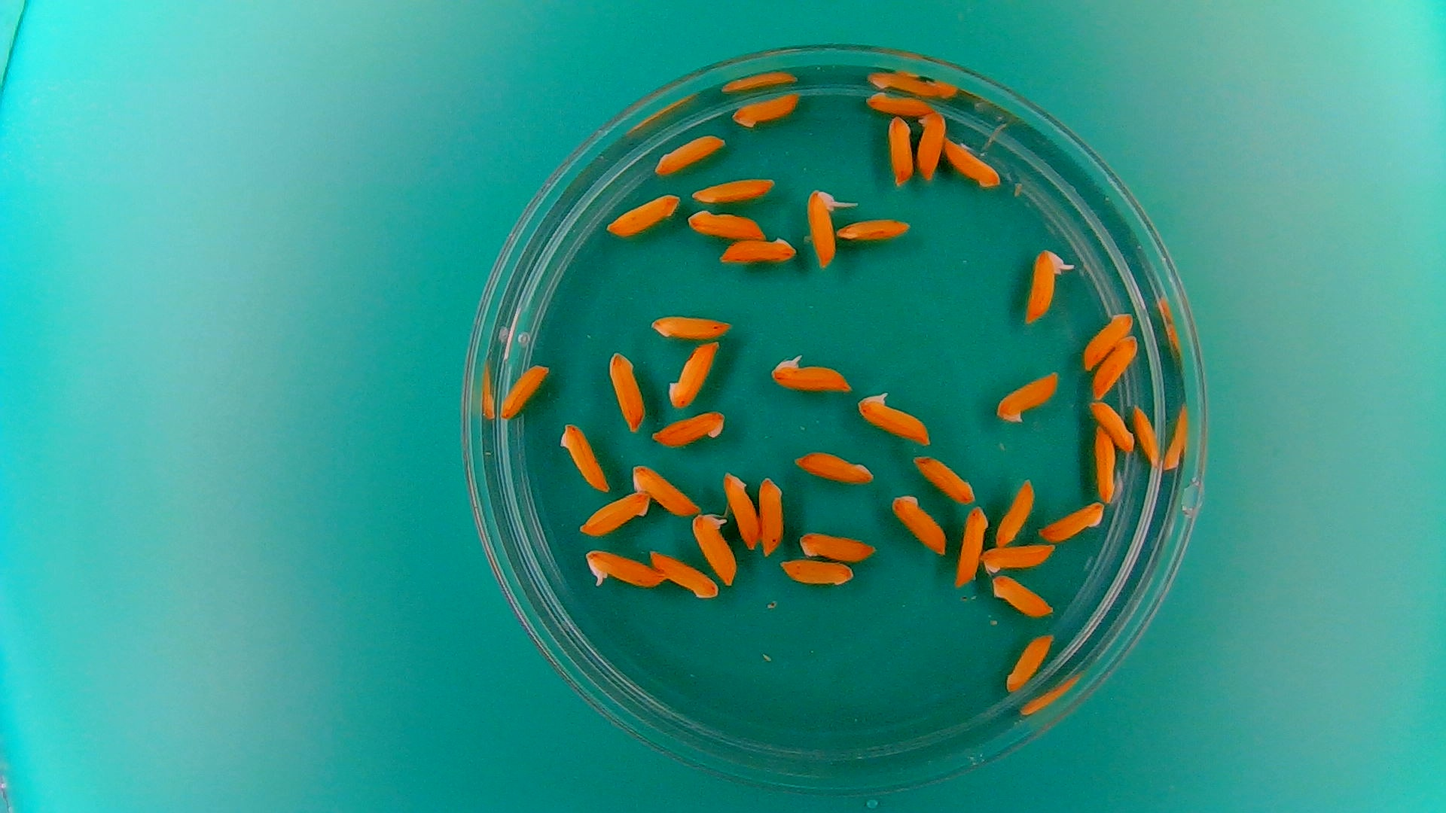no: (628, 461, 701, 518), (665, 338, 721, 411), (888, 491, 950, 556), (557, 418, 610, 493), (647, 547, 720, 601), (993, 369, 1061, 425), (604, 190, 682, 238), (576, 489, 652, 537), (791, 446, 877, 486), (606, 348, 646, 434), (911, 452, 977, 504), (652, 131, 728, 176), (721, 468, 761, 552), (496, 360, 551, 421), (1003, 631, 1054, 695), (990, 571, 1056, 620), (650, 407, 727, 449), (942, 135, 1002, 188), (1092, 333, 1139, 400), (1081, 312, 1134, 370), (953, 503, 989, 587), (1036, 500, 1106, 543), (995, 475, 1036, 548), (796, 527, 878, 563), (647, 309, 735, 342), (731, 89, 802, 129), (689, 172, 777, 204), (687, 205, 767, 240), (979, 539, 1057, 574), (1087, 397, 1136, 452), (778, 557, 856, 589), (914, 107, 947, 182), (721, 234, 798, 266), (757, 472, 786, 556), (834, 214, 912, 242), (862, 89, 937, 118), (886, 113, 915, 186), (1092, 423, 1118, 504), (1131, 402, 1162, 468)
yes: (855, 388, 934, 446), (1023, 246, 1076, 324), (767, 349, 855, 394), (581, 545, 668, 590), (689, 508, 738, 587), (804, 178, 846, 269)
